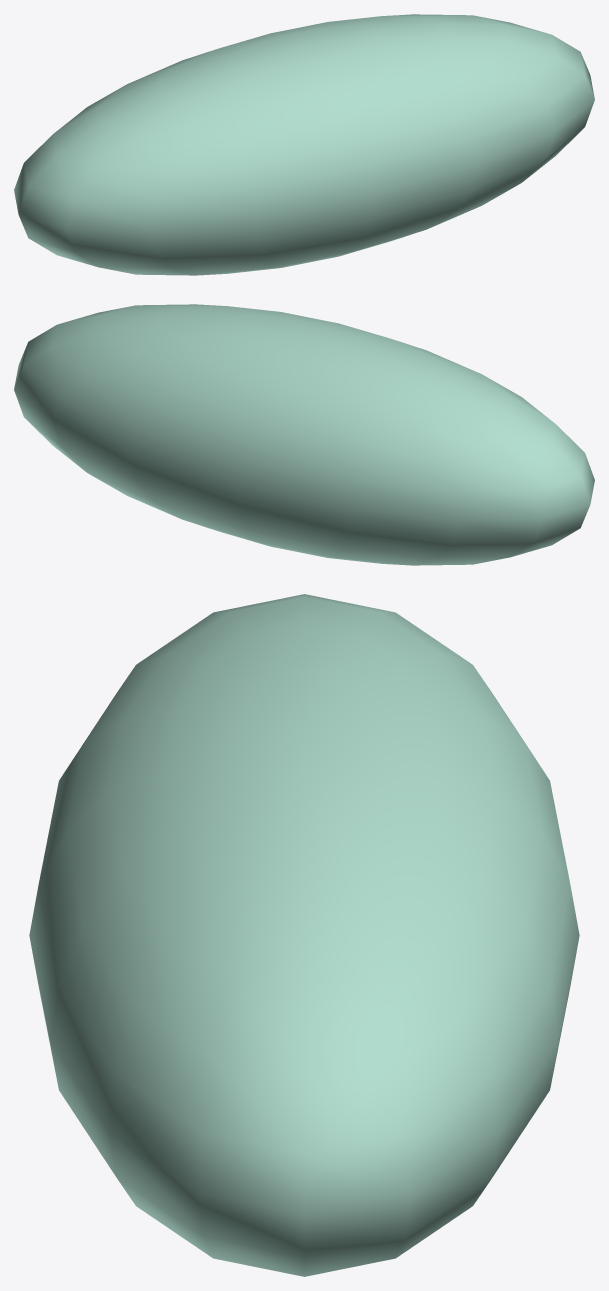
Rendered from scenery.glb.
3 views of the same model, one above another, from view 1: azimuth 30°, elevation 25°; view 2: azimuth 150°, elevation 25°; view 3: azimuth 270°, elevation 25° (orthographic). The views are drawn at different scales.
Visible parts, largest first — view 1: Hill2; view 2: Hill2; view 3: Hill2.
Part boxes in pixels (x1,y1,x2,y2): Hill2: [14, 14, 594, 275]; Hill2: [14, 304, 594, 565]; Hill2: [29, 594, 579, 1276].
Bounding box in the file's own units: 12 × 4 × 5.
